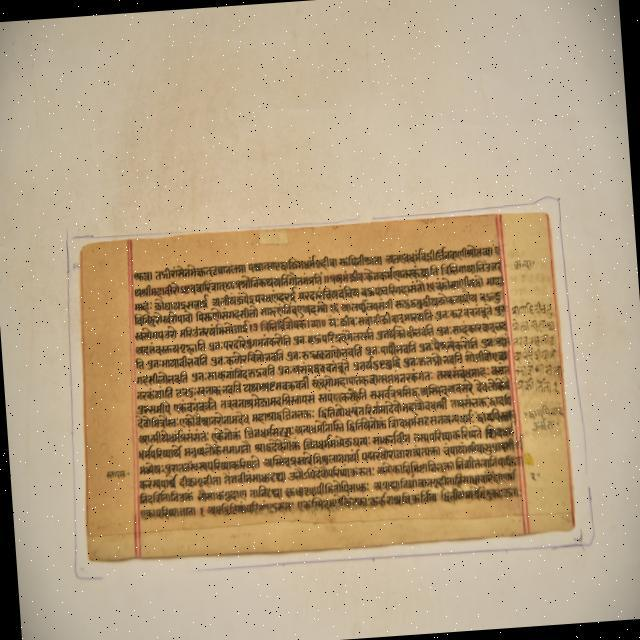text_paragraph: (78, 212, 575, 560)
